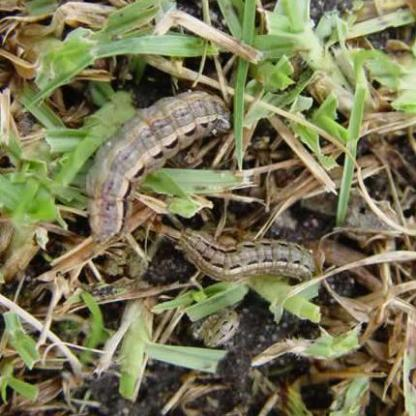armyworm: (83, 89, 235, 243), (172, 222, 329, 290)
